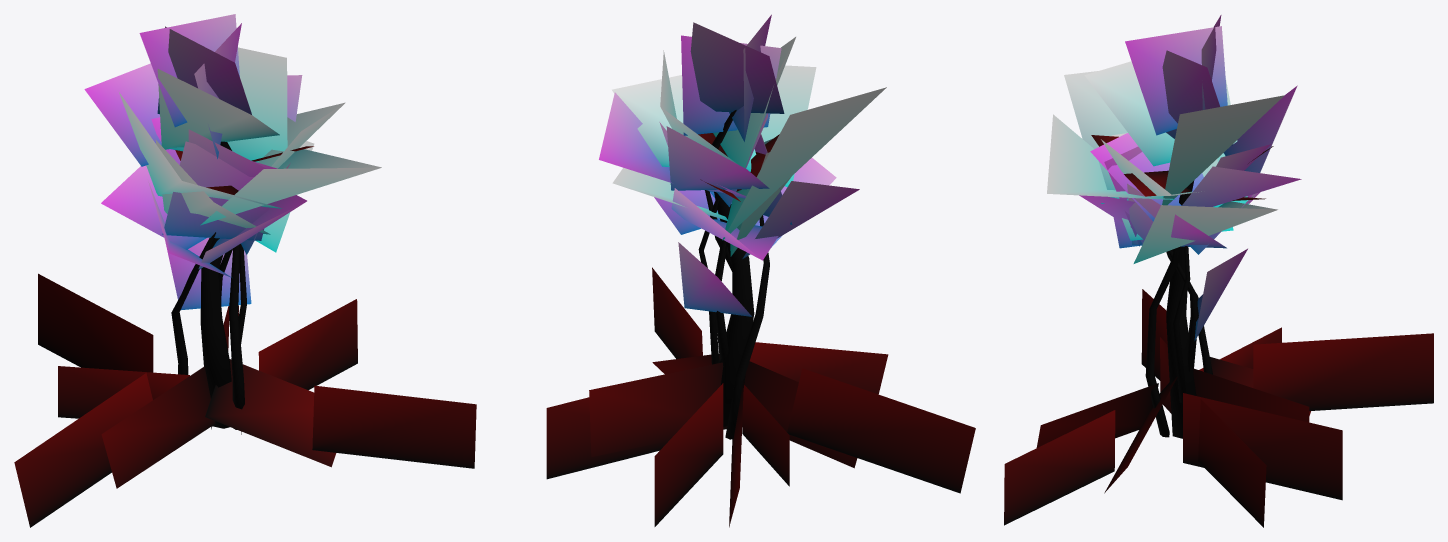
Rendered from swamp_mangrove_c_256.fbx.
The picture shows the model from 3 angles, left to right: view 1: azimuth 30°, elevation 25°; view 2: azimuth 150°, elevation 25°; view 3: azimuth 270°, elevation 25°; orthographic projection.
Visible parts, largest first — view 1: leavesmc256, treemc256; view 2: leavesmc256, treemc256; view 3: leavesmc256, treemc256.
Boxes of the visible parts, x1,y1,x2,y2 form: leavesmc256: (14, 14, 476, 527); treemc256: (171, 141, 246, 429); leavesmc256: (546, 14, 975, 527); treemc256: (698, 110, 769, 439); leavesmc256: (1004, 15, 1433, 527); treemc256: (1145, 180, 1212, 438).
Size of what is drawn, in the model's own units: 5.67 by 5.96 by 5.28.
